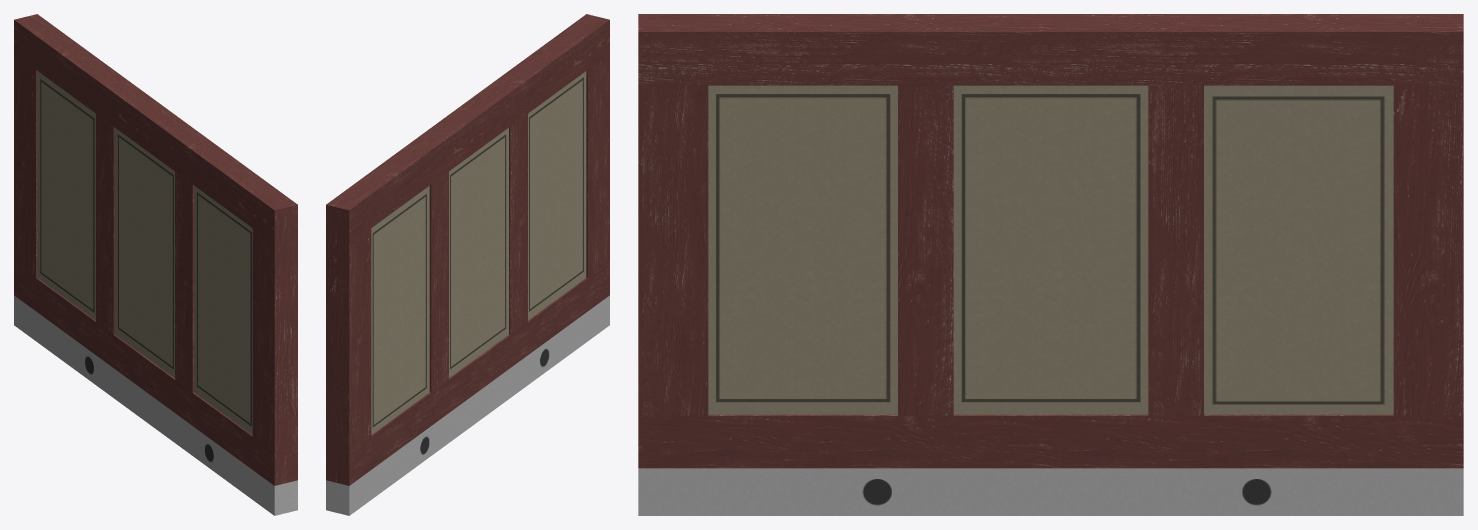
The model's file is SM_Sun_Kak_Wall_D.fbx.
3 renders of one model, left to right at view 1: azimuth 30°, elevation 25°; view 2: azimuth 150°, elevation 25°; view 3: azimuth 270°, elevation 25°, orthographic. The views are drawn at different scales.
Parts seen in each view (by area): view 1: SM_Sun_Kak_Wall_D; view 2: SM_Sun_Kak_Wall_D; view 3: SM_Sun_Kak_Wall_D.
Part boxes in pixels (<box>): SM_Sun_Kak_Wall_D: <box>14,14,297,515</box>; SM_Sun_Kak_Wall_D: <box>326,14,609,515</box>; SM_Sun_Kak_Wall_D: <box>638,14,1463,515</box>.
Bounding box in the file's own units: 15 × 187 × 289.
